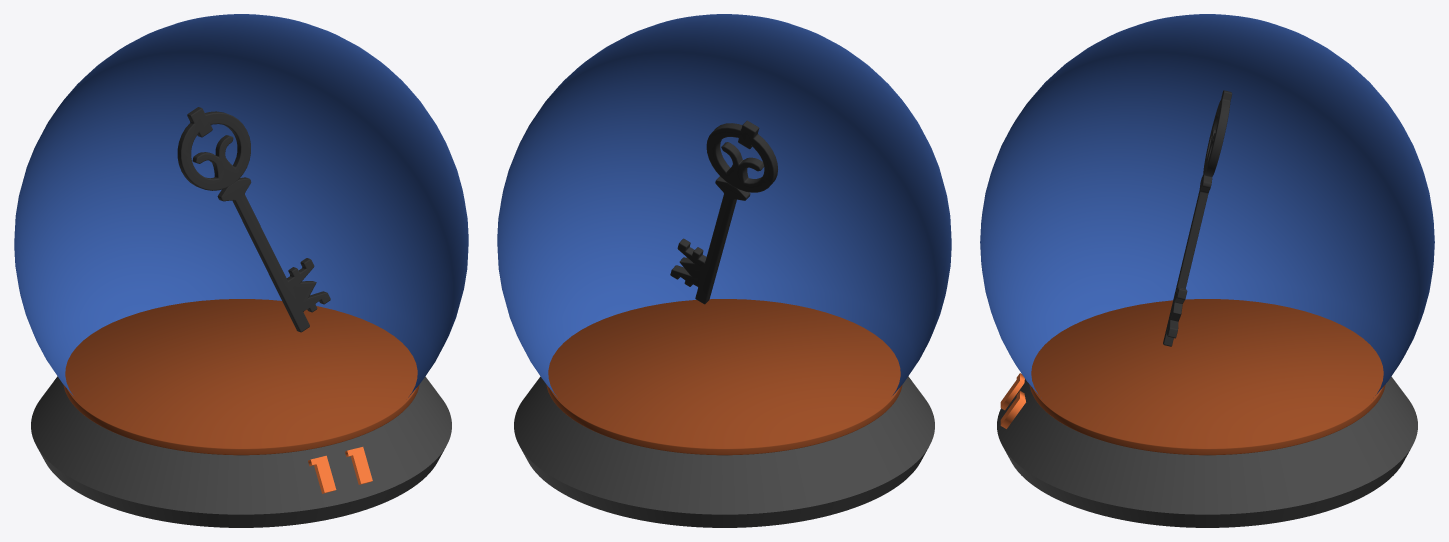
File: Curio_11.glb
3 views of the same model, side by side, from view 1: azimuth 30°, elevation 25°; view 2: azimuth 150°, elevation 25°; view 3: azimuth 270°, elevation 25° (orthographic).
Parts seen in each view (by area): view 1: Sphere.038, Sphere.037, Sphere.036, Circle.001, Text.016; view 2: Sphere.038, Sphere.037, Sphere.036, Circle.001; view 3: Sphere.038, Sphere.037, Sphere.036, Circle.001, Text.016.
Boxes of the visible parts, x1,y1,x2,y2 form: Sphere.038: (14,14,468,397); Sphere.037: (63,299,419,455); Sphere.036: (31,376,451,527); Circle.001: (177,107,330,332); Text.016: (308,447,372,493); Sphere.038: (497,14,951,397); Sphere.037: (546,299,902,455); Sphere.036: (514,376,934,527); Circle.001: (670,120,777,304); Sphere.038: (980,14,1434,395); Sphere.037: (1029,299,1385,455); Sphere.036: (997,376,1417,527); Circle.001: (1163,90,1232,346); Text.016: (1000,373,1025,428).
Size of the model in its own units: 4.66 by 4.62 by 4.66.
